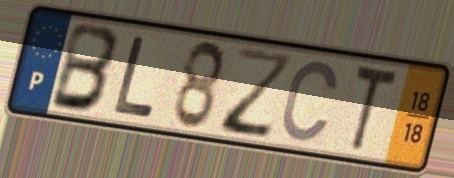8: (169, 39, 229, 133)
B: (46, 19, 122, 115)
C: (278, 58, 342, 146)
L: (110, 32, 159, 121)
T: (350, 60, 401, 157)
Z: (218, 45, 297, 144)
